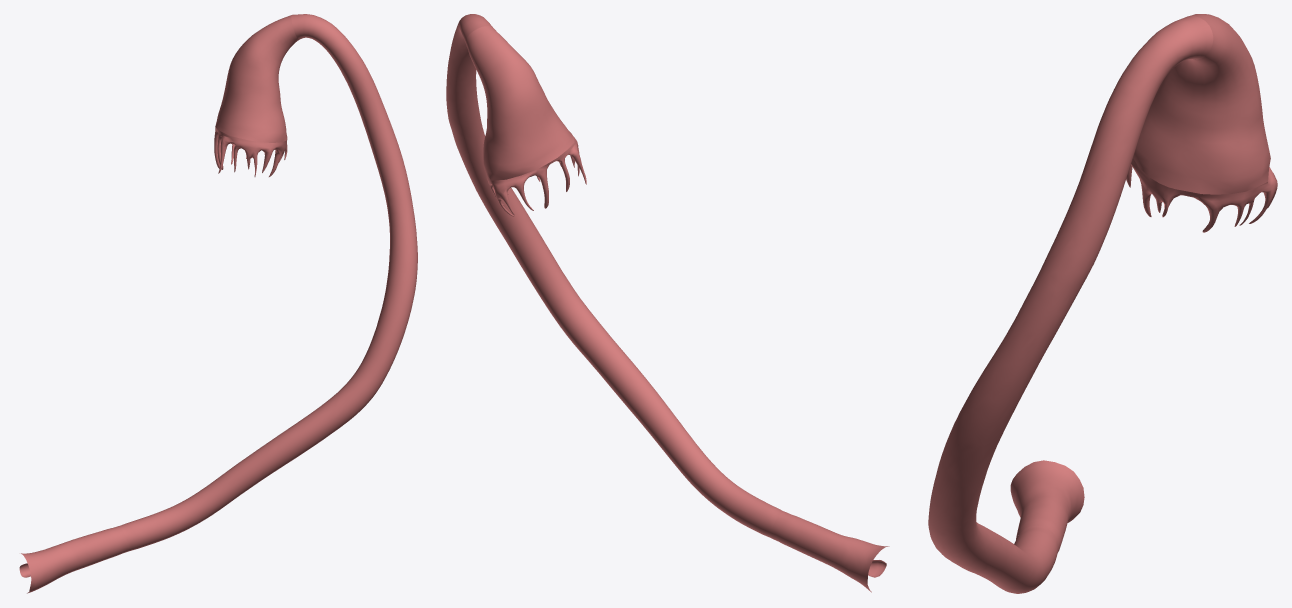
The model's file is fallopian-tube.glb.
3 views of the same model, side by side, from view 1: azimuth 30°, elevation 25°; view 2: azimuth 150°, elevation 25°; view 3: azimuth 270°, elevation 25° (orthographic). The views are drawn at different scales.
Parts seen in each view (by area): view 1: VH_F_ampulla_of_uterine_tube_L, VH_F_uterine_tube_infundibulum_L, VH_F_isthmus_of_fallopian_tube_L, VH_F_fibria_of_uterine_tube_L; view 2: VH_F_ampulla_of_uterine_tube_L, VH_F_uterine_tube_infundibulum_L, VH_F_isthmus_of_fallopian_tube_L, VH_F_fibria_of_uterine_tube_L; view 3: VH_F_ampulla_of_uterine_tube_L, VH_F_uterine_tube_infundibulum_L, VH_F_isthmus_of_fallopian_tube_L, VH_F_fibria_of_uterine_tube_L.
Part boxes in pixels (bbox=[...]): VH_F_ampulla_of_uterine_tube_L: bbox=[118, 14, 417, 551]; VH_F_uterine_tube_infundibulum_L: bbox=[215, 15, 299, 142]; VH_F_isthmus_of_fallopian_tube_L: bbox=[19, 526, 127, 593]; VH_F_fibria_of_uterine_tube_L: bbox=[214, 127, 287, 176]; VH_F_ampulla_of_uterine_tube_L: bbox=[446, 14, 785, 539]; VH_F_uterine_tube_infundibulum_L: bbox=[465, 26, 574, 180]; VH_F_isthmus_of_fallopian_tube_L: bbox=[771, 512, 889, 592]; VH_F_fibria_of_uterine_tube_L: bbox=[486, 137, 586, 216]; VH_F_ampulla_of_uterine_tube_L: bbox=[928, 16, 1213, 593]; VH_F_uterine_tube_infundibulum_L: bbox=[1133, 14, 1270, 194]; VH_F_isthmus_of_fallopian_tube_L: bbox=[1010, 460, 1084, 551]; VH_F_fibria_of_uterine_tube_L: bbox=[1126, 158, 1277, 232].
Bounding box in the file's own units: 0.0386 × 0.0445 × 0.0185.
